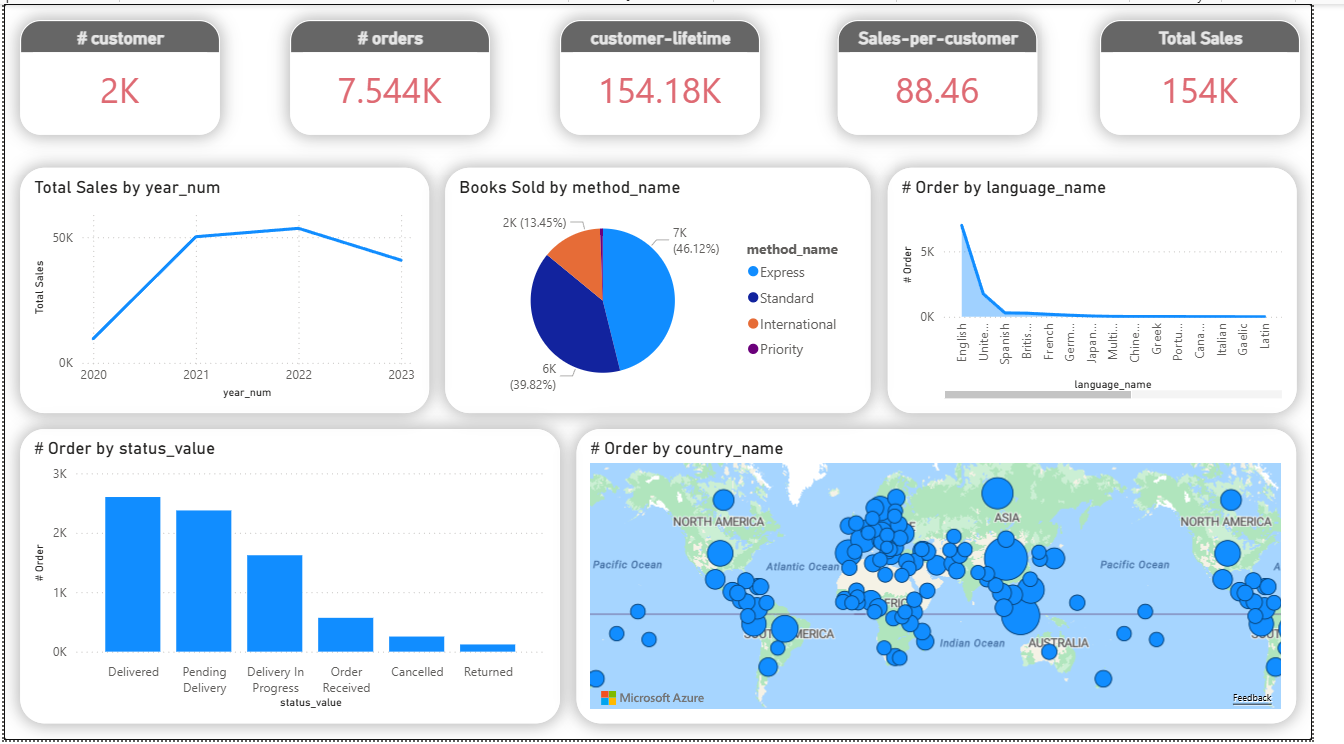

This screenshot's page, from the dashboard's own definition file:
{"tool":"powerbi","page":{"name":"Page 1","canvas":[1280,720],"ordinal":0},"visuals":[{"type":"cardVisual","title":"# customer","fields":{"Data":["measures (2).# Customer"]},"box":[16,16,195,112],"z":0},{"type":"cardVisual","title":"# orders","fields":{"Data":["measures (2).# Order"]},"box":[280,16,195,112],"z":1000},{"type":"pieChart","fields":{"Y":["measures (2).Books Sold"],"Category":["dim_shipping_method.method_name"]},"box":[432,160,416,240],"z":2000},{"type":"azureMap","fields":{"Category":["dim_address.country_name"],"Size":["measures (2).# Order"]},"box":[560,416,704,288],"z":3000},{"type":"columnChart","fields":{"Category":["dim_order_status.status_value"],"Y":["measures (2).# Order"]},"box":[16,416,528,288],"z":4000},{"type":"lineChart","fields":{"Y":["measures (2).Total Sales"],"Category":["dim_date.year_num"]},"box":[16,160,400,240],"z":5000},{"type":"areaChart","fields":{"Category":["dim_book.language_name"],"Y":["measures (2).# Order"]},"box":[864,160,400,240],"z":6000},{"type":"cardVisual","title":"customer-lifetime","fields":{"Data":["measures (2).Customer Lifetime Value"]},"box":[544,16,195,112],"z":7000},{"type":"cardVisual","title":"Sales-per-customer","fields":{"Data":["measures (2).Sales per Customer"]},"box":[816,16,195,112],"z":8000},{"type":"cardVisual","title":"Total Sales","fields":{"Data":["measures (2).Total Sales"]},"box":[1072,16,195,112],"z":9000}]}

Visuals, with their boxes in screenshot pixels (x1, y1, x2, y2), scaled from the page's 1280x720 canvas onto the 1344x744 screenshot:
"# customer" cardVisual: box=[17, 17, 222, 132]
"# orders" cardVisual: box=[294, 17, 499, 132]
pieChart - measures (2).Books Sold x dim_shipping_method.method_name: box=[454, 165, 890, 413]
azureMap - dim_address.country_name x measures (2).# Order: box=[588, 430, 1327, 727]
columnChart - dim_order_status.status_value x measures (2).# Order: box=[17, 430, 571, 727]
lineChart - measures (2).Total Sales x dim_date.year_num: box=[17, 165, 437, 413]
areaChart - dim_book.language_name x measures (2).# Order: box=[907, 165, 1327, 413]
"customer-lifetime" cardVisual: box=[571, 17, 776, 132]
"Sales-per-customer" cardVisual: box=[857, 17, 1062, 132]
"Total Sales" cardVisual: box=[1126, 17, 1330, 132]
